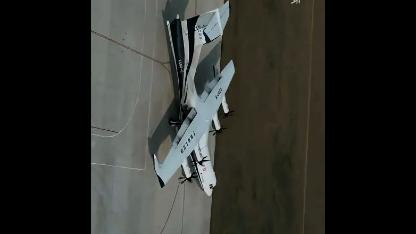AG600: (152, 0, 238, 197)
